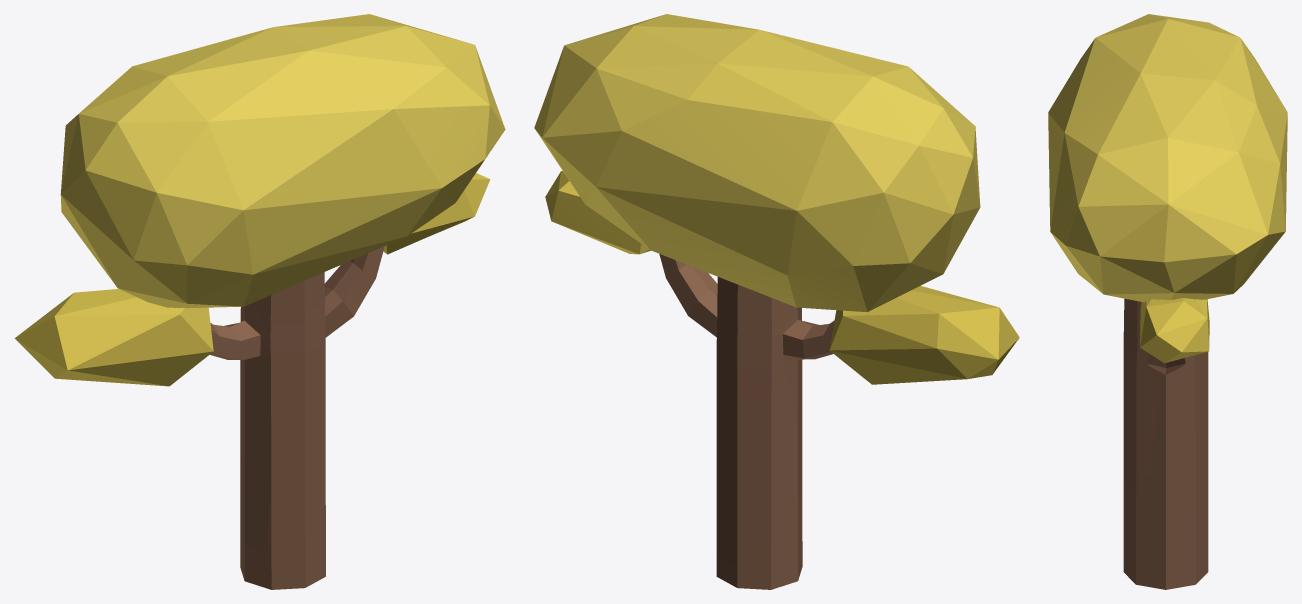
Rendered from tropical_tree_9.fbx.
3 renders of one model, left to right at view 1: azimuth 30°, elevation 25°; view 2: azimuth 150°, elevation 25°; view 3: azimuth 270°, elevation 25°, orthographic. The views are drawn at different scales.
Visible parts, largest first — view 1: tropical_trees_9; view 2: tropical_trees_9; view 3: tropical_trees_9.
Part boxes in pixels (x1,y1,x2,y2): tropical_trees_9: (14,14,505,589); tropical_trees_9: (534,14,1019,589); tropical_trees_9: (1048,14,1287,589).
Bounding box in the file's own units: 637 × 700 × 301.
